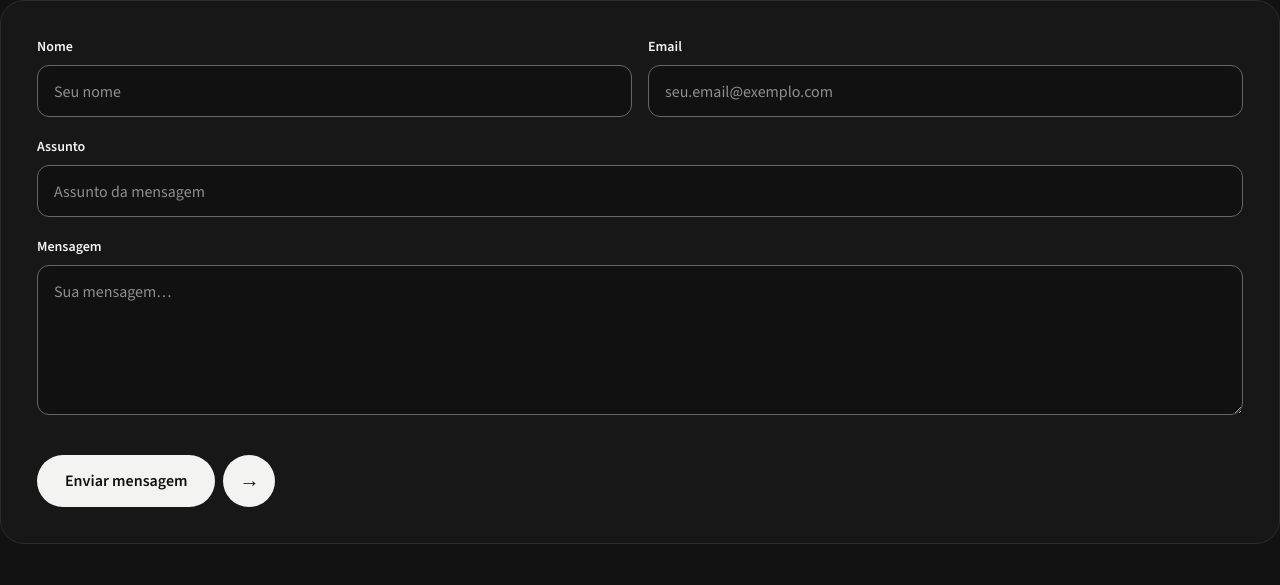
<ContactForm /> › sends through EmailJS and confirms with 'Mensagem enviada. Respondo em breve.' (CONT-03)
This screenshot has width=1280, height=585.
Step 1. Type "Bruno" into the field labelled "Nome" → coordinates (334, 91), box [37, 65, 632, 117]
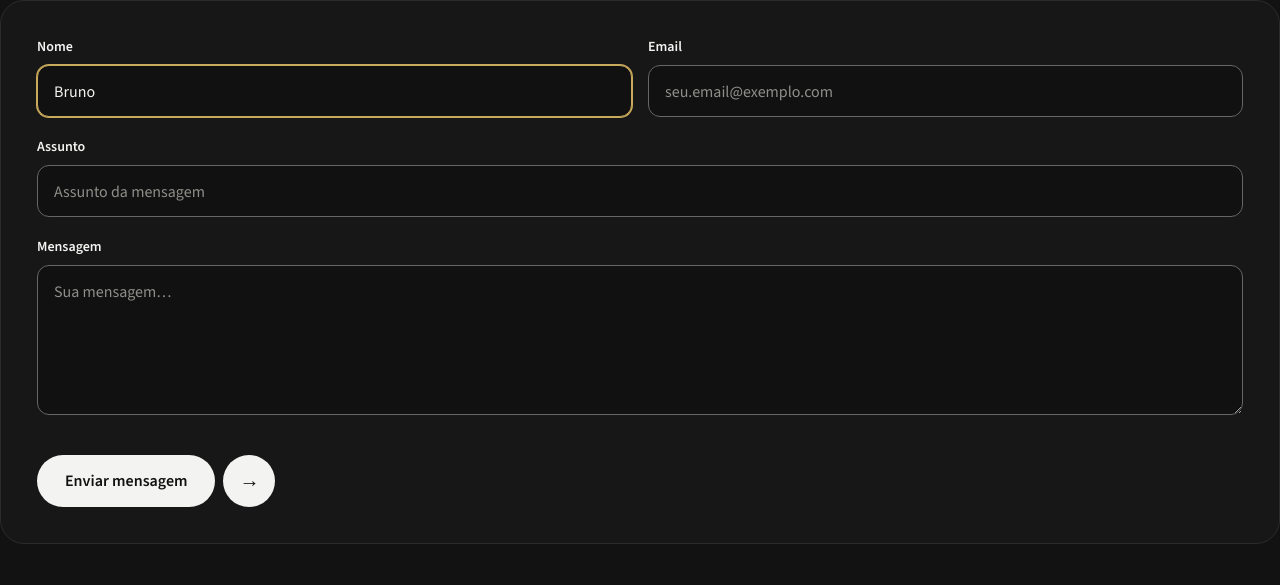
Step 2. Type "bruno@example.com" into the field labelled "Email" → coordinates (946, 91), box [648, 65, 1243, 117]
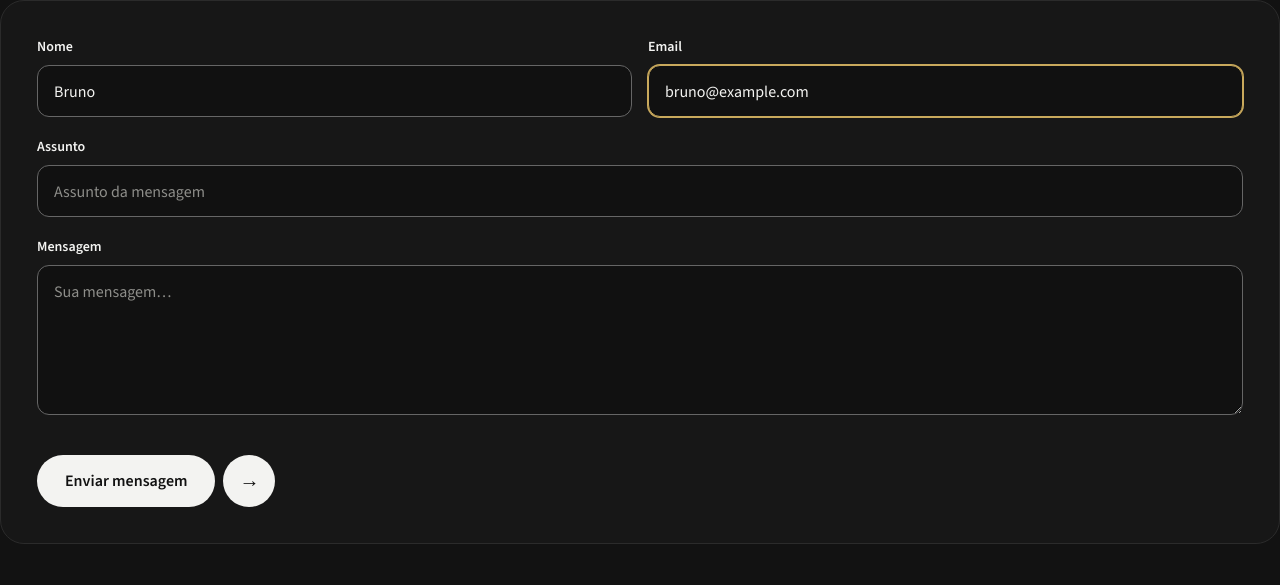
Step 3. Type "Hello" into the field labelled "Assunto" → coordinates (640, 191), box [37, 165, 1243, 217]
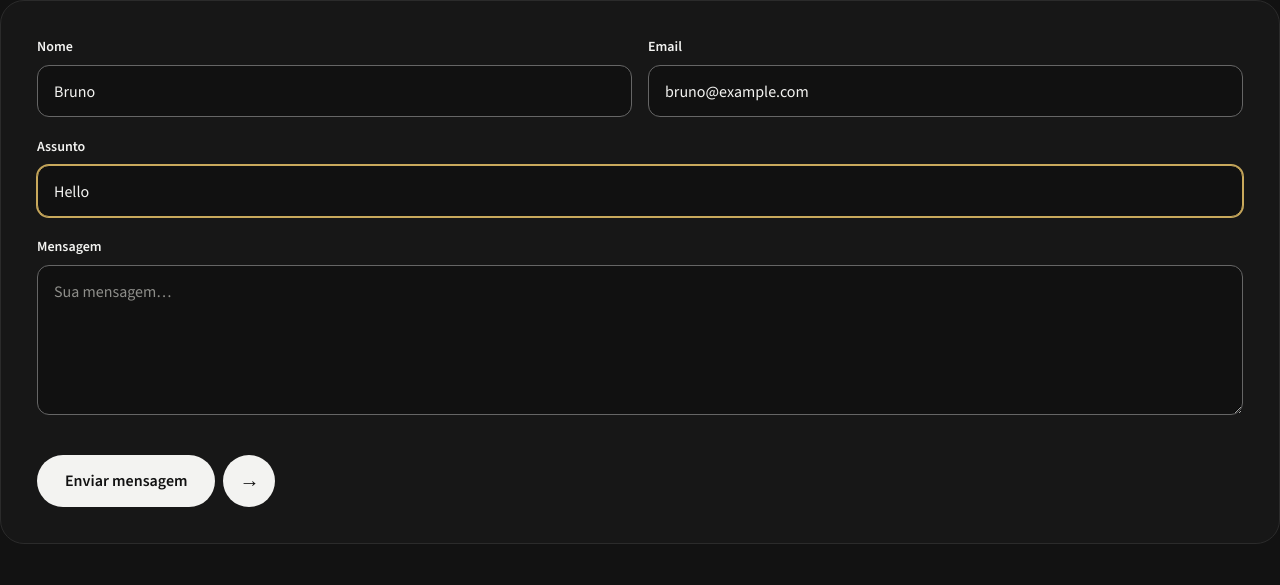
Step 4. Type "Mensagem de teste" into the text box labelled "Mensagem" → coordinates (640, 340), box [37, 265, 1243, 415]
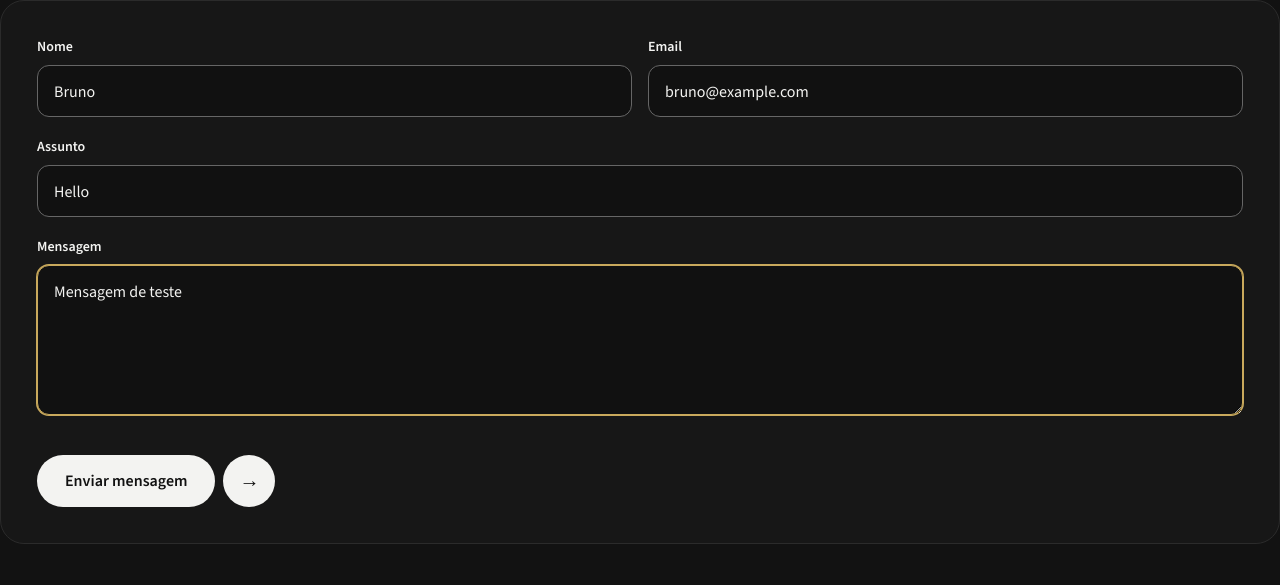
Step 5. Click the button "Enviar mensagem →" → coordinates (156, 481), box [37, 455, 276, 507]
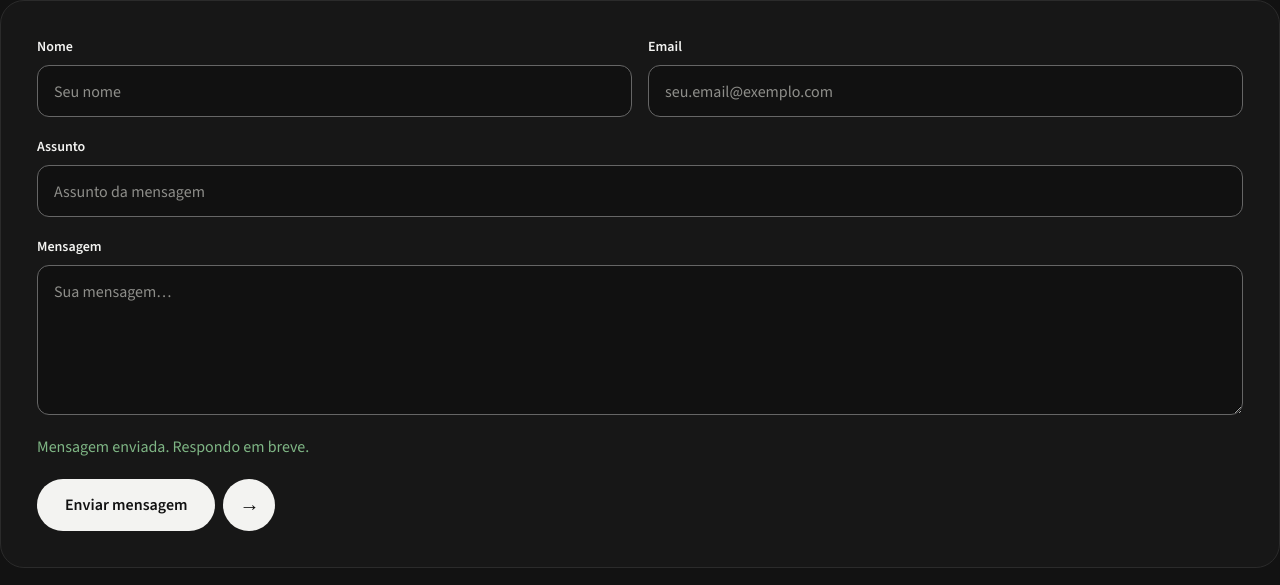
Check: the message reads "Mensagem enviada. Respondo em breve.", box [37, 436, 309, 457]
Check: the field labelled "Nome" is empty, box [37, 65, 632, 117]
